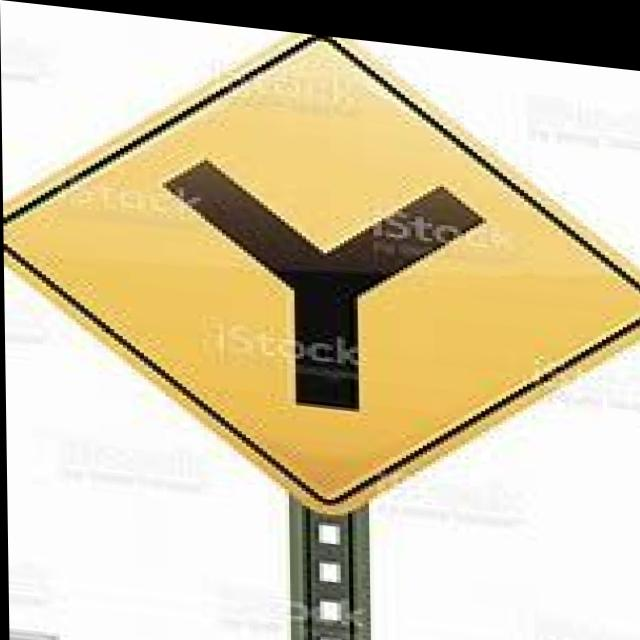Y_INTERSECTION: (0, 0, 640, 567)
